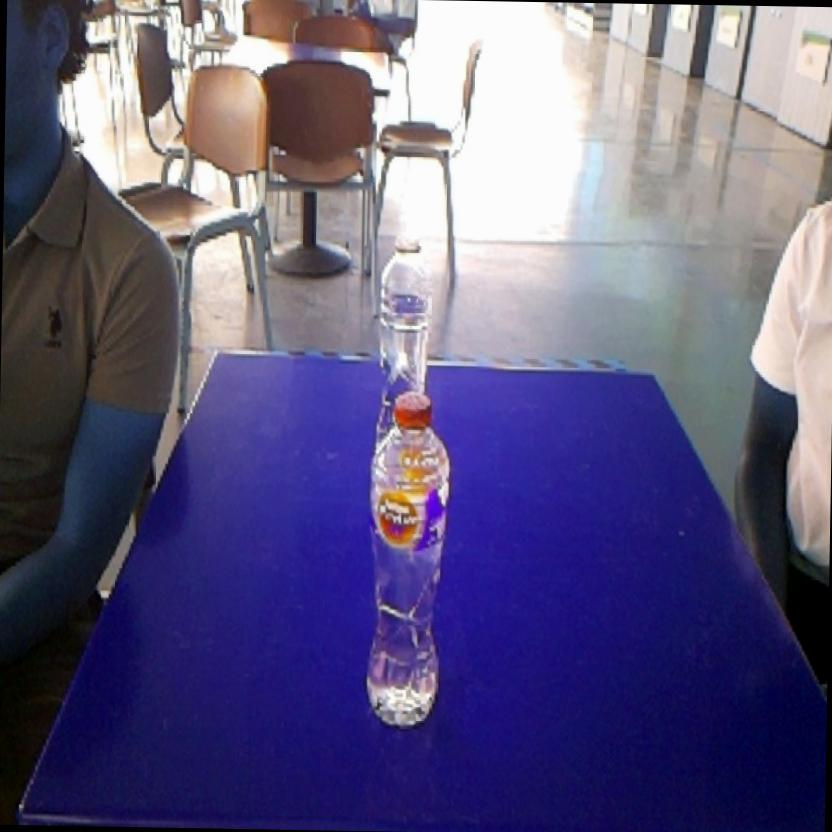good: (352, 379, 463, 735)
no_cap: (371, 224, 442, 371)
